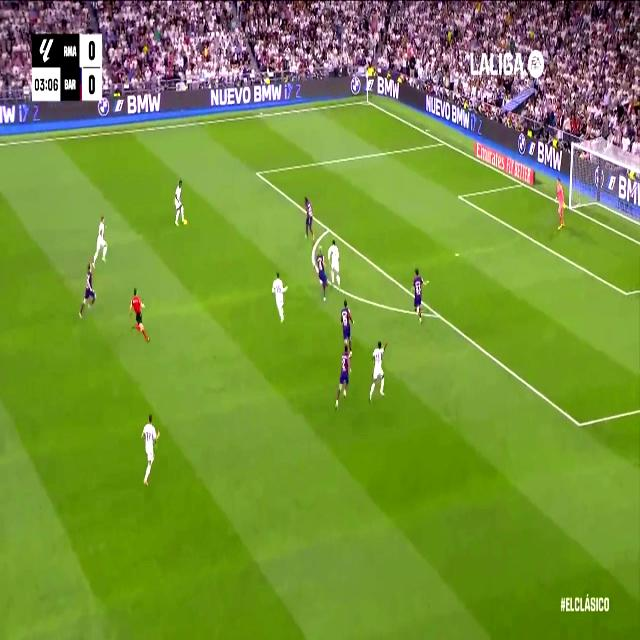bigarea_bottom_inner: (573, 410, 585, 437)
bigarea_top_inner: (252, 163, 262, 182)
bigarea_top_outter: (439, 134, 447, 148)
bottom_arc_area_intersection: (433, 305, 442, 324)
corner: (362, 95, 371, 106)
smallarea_top_inner: (456, 189, 463, 203)
top_arc_area_intersection: (324, 219, 332, 237)
